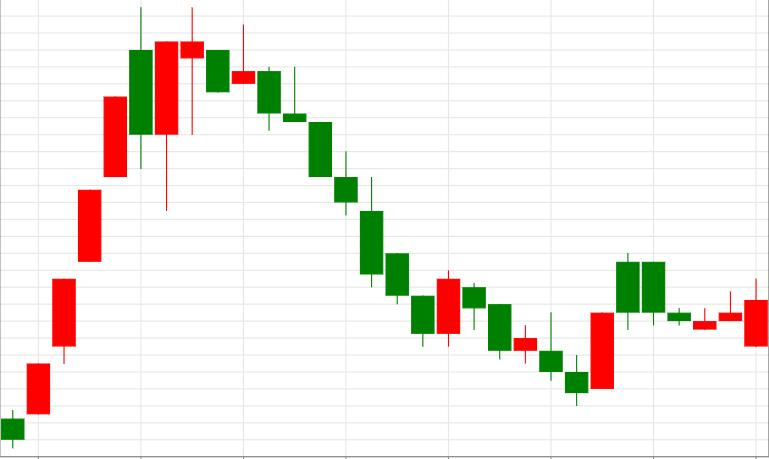bullish_engulfing_rise: (257, 66, 460, 346)
